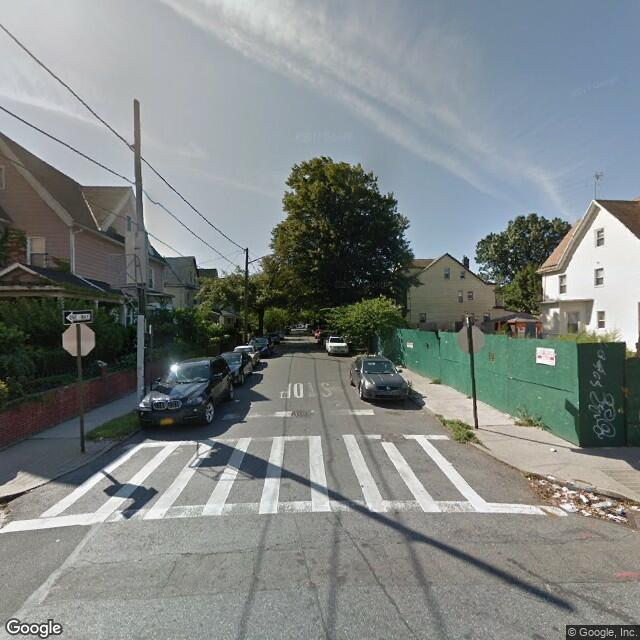litter: (534, 472, 623, 520)
